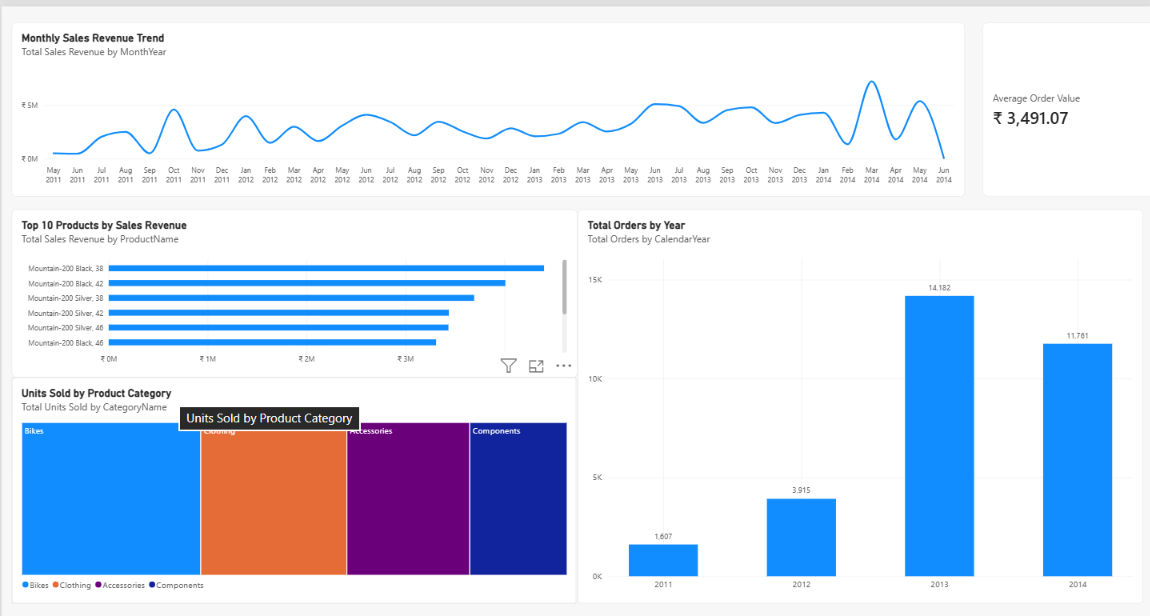

This screenshot's page, from the dashboard's own definition file:
{"tool":"powerbi","page":{"name":"sales performance","canvas":[1920,1080],"ordinal":1},"visuals":[{"type":"lineChart","title":"Monthly Sales Revenue Trend","fields":{"Category":["dim DimDate.MonthYear"],"Y":["fact FactSales.Total Sales Revenue"]},"box":[16.5,26.8,1589,290.2],"z":0},{"type":"clusteredBarChart","title":"Top 10 Products by Sales Revenue","fields":{"Category":["dim DimProduct.ProductName"],"Y":["fact FactSales.Total Sales Revenue"]},"box":[16.5,337.6,943,280],"z":1},{"type":"clusteredColumnChart","title":"Total Orders by Year","fields":{"Category":["dim DimDate.CalendarYear"],"Y":["fact FactSales.Total Orders"]},"box":[959.2,337.6,942.7,656.6],"z":2},{"type":"treemap","title":"Units Sold by Product Category","fields":{"Group":["dim DimProduct.CategoryName"],"Values":["fact FactSales.Total Units Sold"]},"box":[16,618,943,377],"z":3},{"type":"cardVisual","fields":{"Data":["fact FactSales.Average Order Value"]},"box":[1634.3,26.8,286.1,290.2],"z":4}]}

Visuals, with their boxes on the page's 1920x1080 design canvas (x1, y1, x2, y2). These are canvas units, not pixel positions in the 1150x616 screenshot, which may show the page scaled, cropped or inside an application window:
"Monthly Sales Revenue Trend" lineChart: select_region(16, 27, 1606, 317)
"Top 10 Products by Sales Revenue" clusteredBarChart: select_region(16, 338, 960, 618)
"Total Orders by Year" clusteredColumnChart: select_region(959, 338, 1902, 994)
"Units Sold by Product Category" treemap: select_region(16, 618, 959, 995)
cardVisual - fact FactSales.Average Order Value: select_region(1634, 27, 1920, 317)
